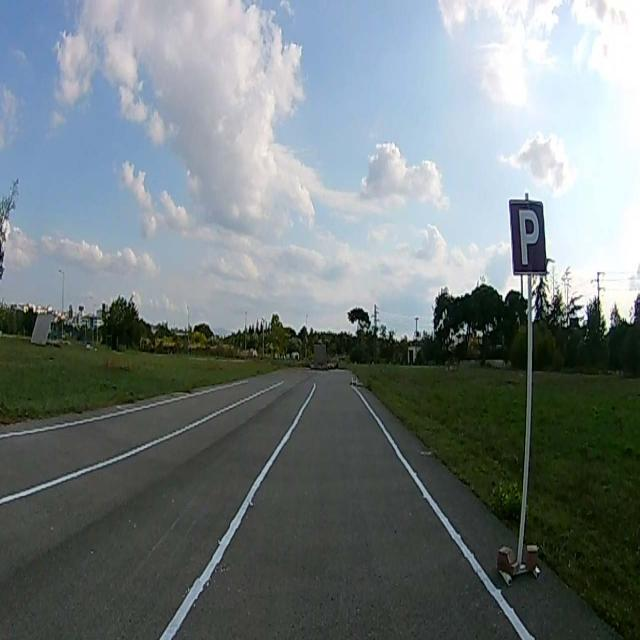park: (506, 201, 546, 276)
